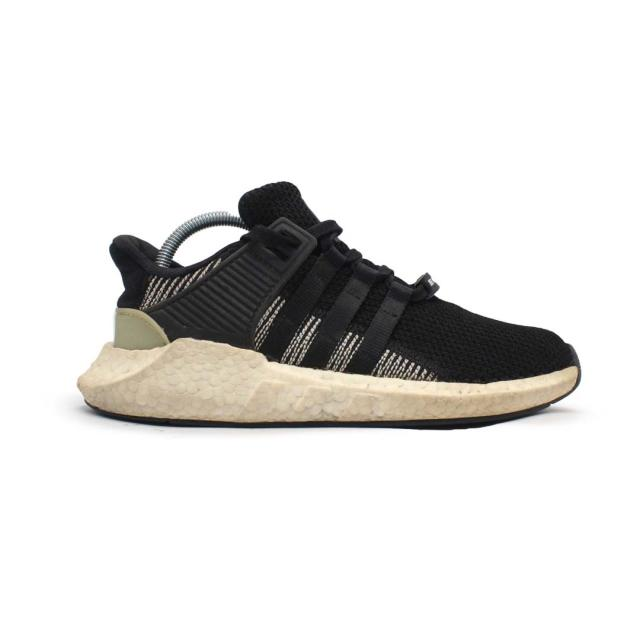heel: (109, 234, 160, 346)
midsole: (77, 339, 579, 430)
uppersole: (162, 183, 574, 382)
